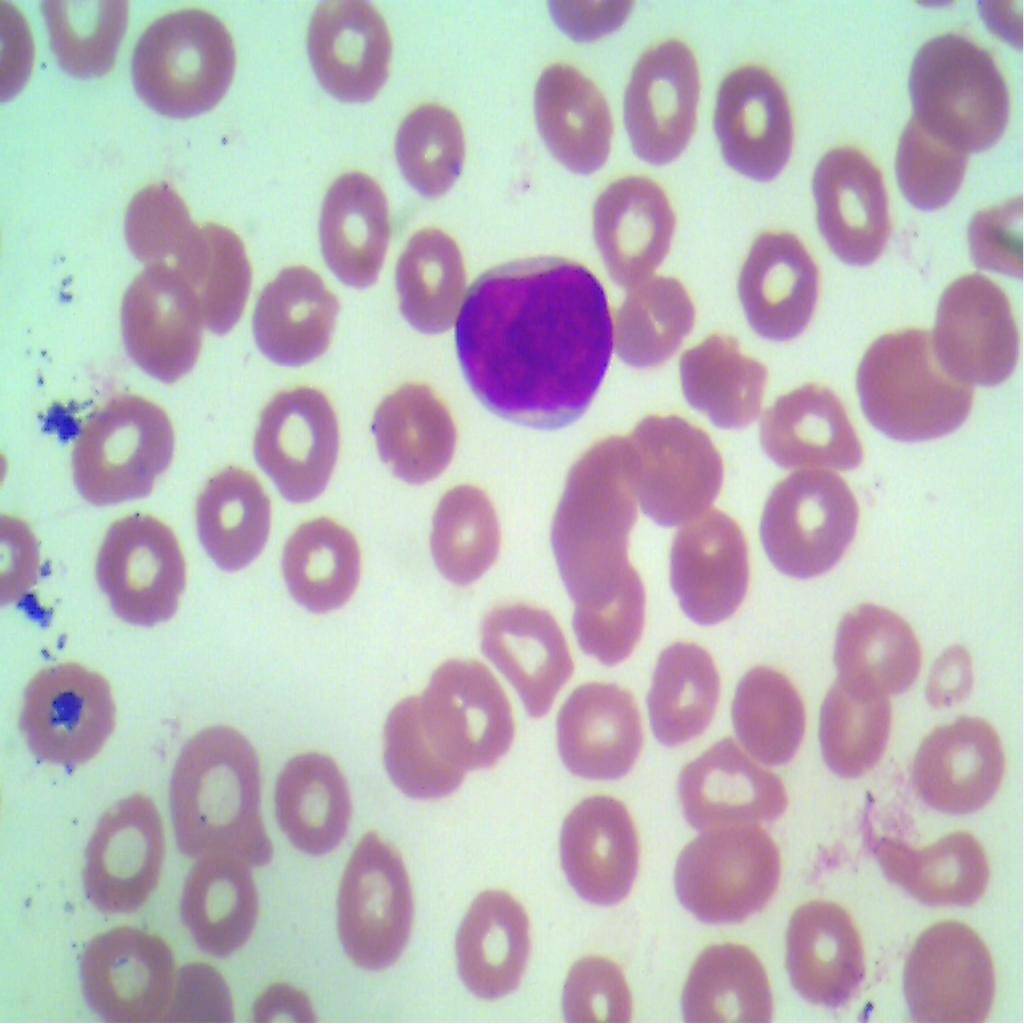Eritrosit: (755, 470, 875, 591), (124, 8, 246, 124), (66, 381, 174, 512), (854, 328, 974, 440), (78, 774, 168, 922), (668, 814, 788, 925), (310, 166, 402, 310), (446, 881, 544, 1016), (89, 512, 195, 634), (896, 917, 1018, 1023), (339, 826, 421, 981), (908, 34, 1015, 152), (622, 404, 726, 525), (704, 62, 803, 185), (18, 657, 126, 768), (524, 54, 616, 182), (908, 699, 1010, 814), (249, 381, 344, 503), (169, 731, 268, 848), (171, 842, 264, 965), (731, 230, 829, 344), (559, 784, 646, 912), (928, 269, 1023, 385), (674, 494, 756, 628), (546, 669, 643, 782), (386, 211, 466, 348), (71, 927, 184, 1023), (244, 258, 335, 375), (780, 898, 874, 1011), (483, 591, 566, 718), (378, 684, 468, 801), (895, 814, 999, 915), (624, 40, 706, 168), (416, 651, 506, 767), (193, 458, 275, 584), (372, 372, 458, 492), (638, 641, 728, 754), (611, 264, 701, 376), (680, 734, 786, 829), (122, 169, 204, 291), (274, 509, 358, 628), (303, 0, 400, 103), (810, 150, 896, 266), (428, 471, 510, 592), (551, 438, 638, 552), (674, 924, 774, 1023), (389, 103, 483, 208), (886, 106, 973, 216), (119, 261, 196, 385), (573, 550, 653, 669), (816, 669, 898, 782), (768, 374, 864, 470), (684, 328, 770, 434), (835, 598, 924, 699), (38, 0, 138, 89), (180, 221, 254, 340), (274, 751, 359, 854), (729, 661, 809, 770), (595, 177, 683, 275), (546, 524, 633, 607), (562, 935, 639, 1023), (916, 638, 981, 718)
Limfoblast: (455, 245, 615, 432)
